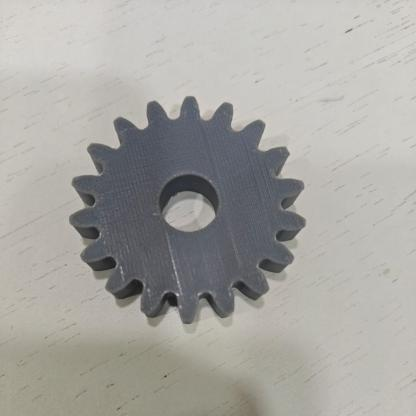gear: (53, 85, 333, 346)
